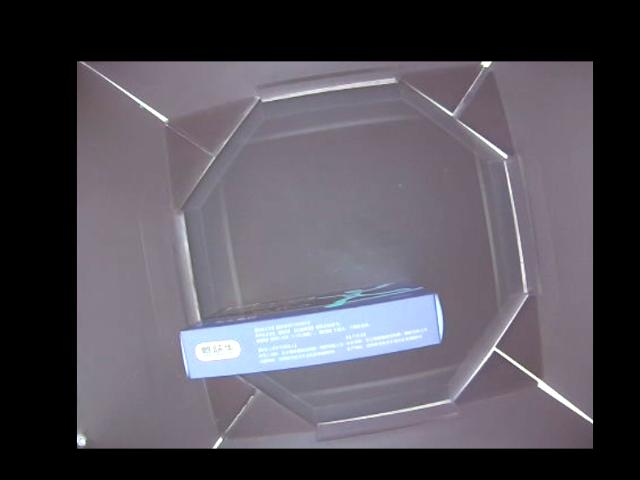Medicine: (181, 280, 445, 380)
